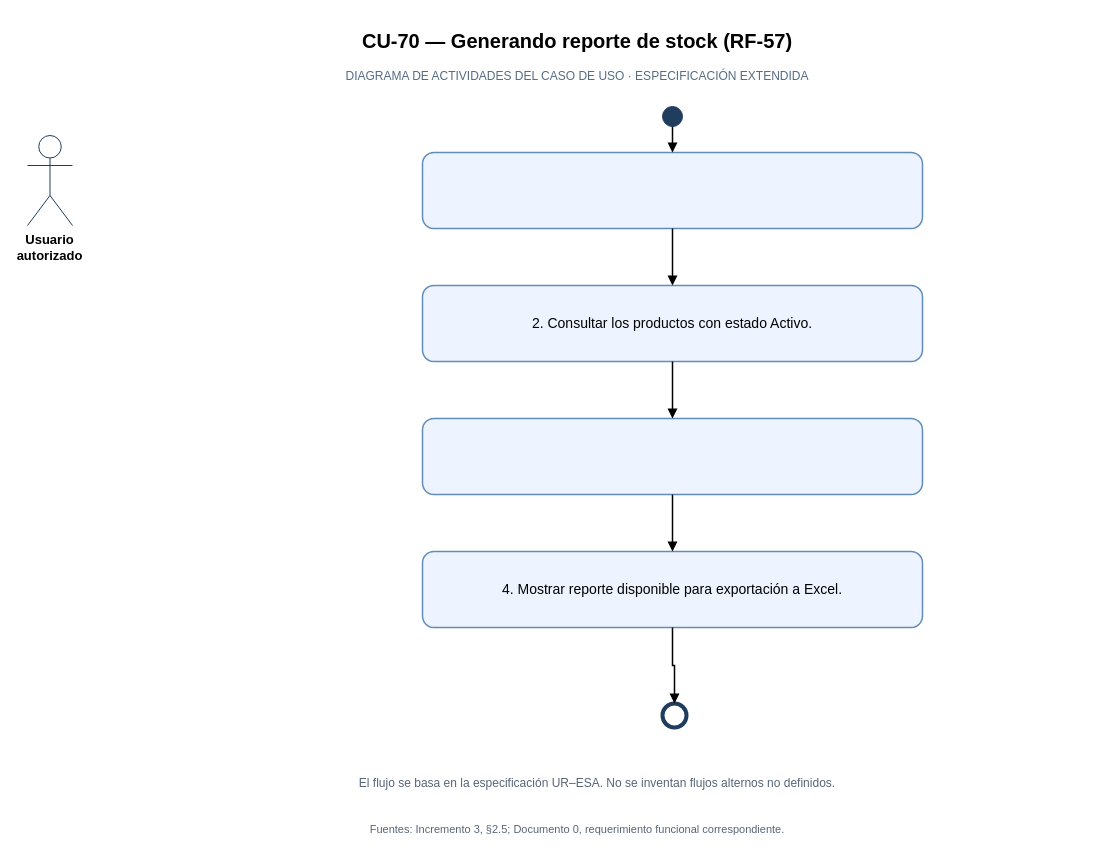
The diagram is 1115 pixels wide and 858 high, and some of its shapes have lost their labels. Each missing label, with the centre of its shape:
"1. Abrir el reporte de stock." goes at (672,190).
"3. Construir filas con SKU, nombre, unidad y stock actual." goes at (672,456).
